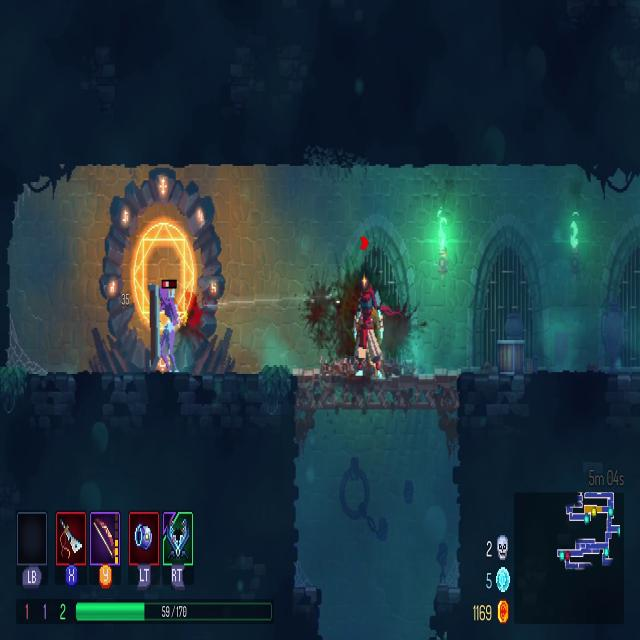agents: (351, 272, 390, 382)
enemy_purple_shield: (145, 279, 179, 374)
wood_floor: (296, 366, 460, 416)
